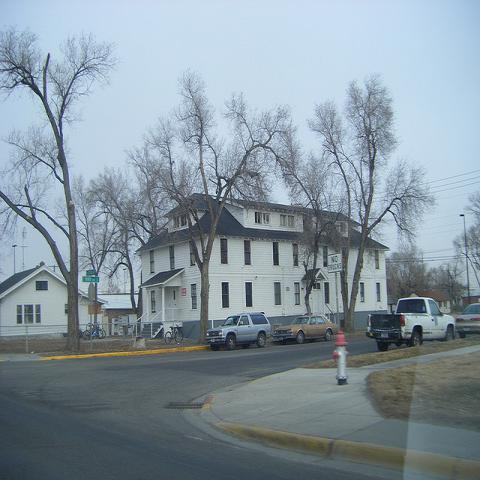car: (206, 312, 273, 349), (273, 312, 338, 344), (456, 302, 479, 340)
truck: (365, 296, 456, 351)
